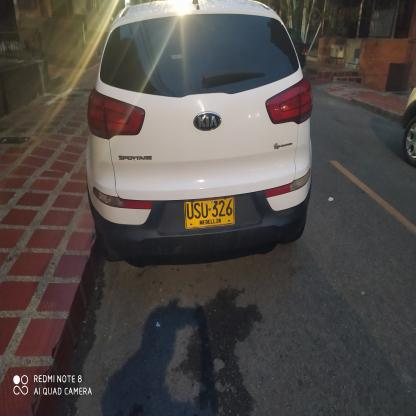placa: (179, 192, 239, 232)
